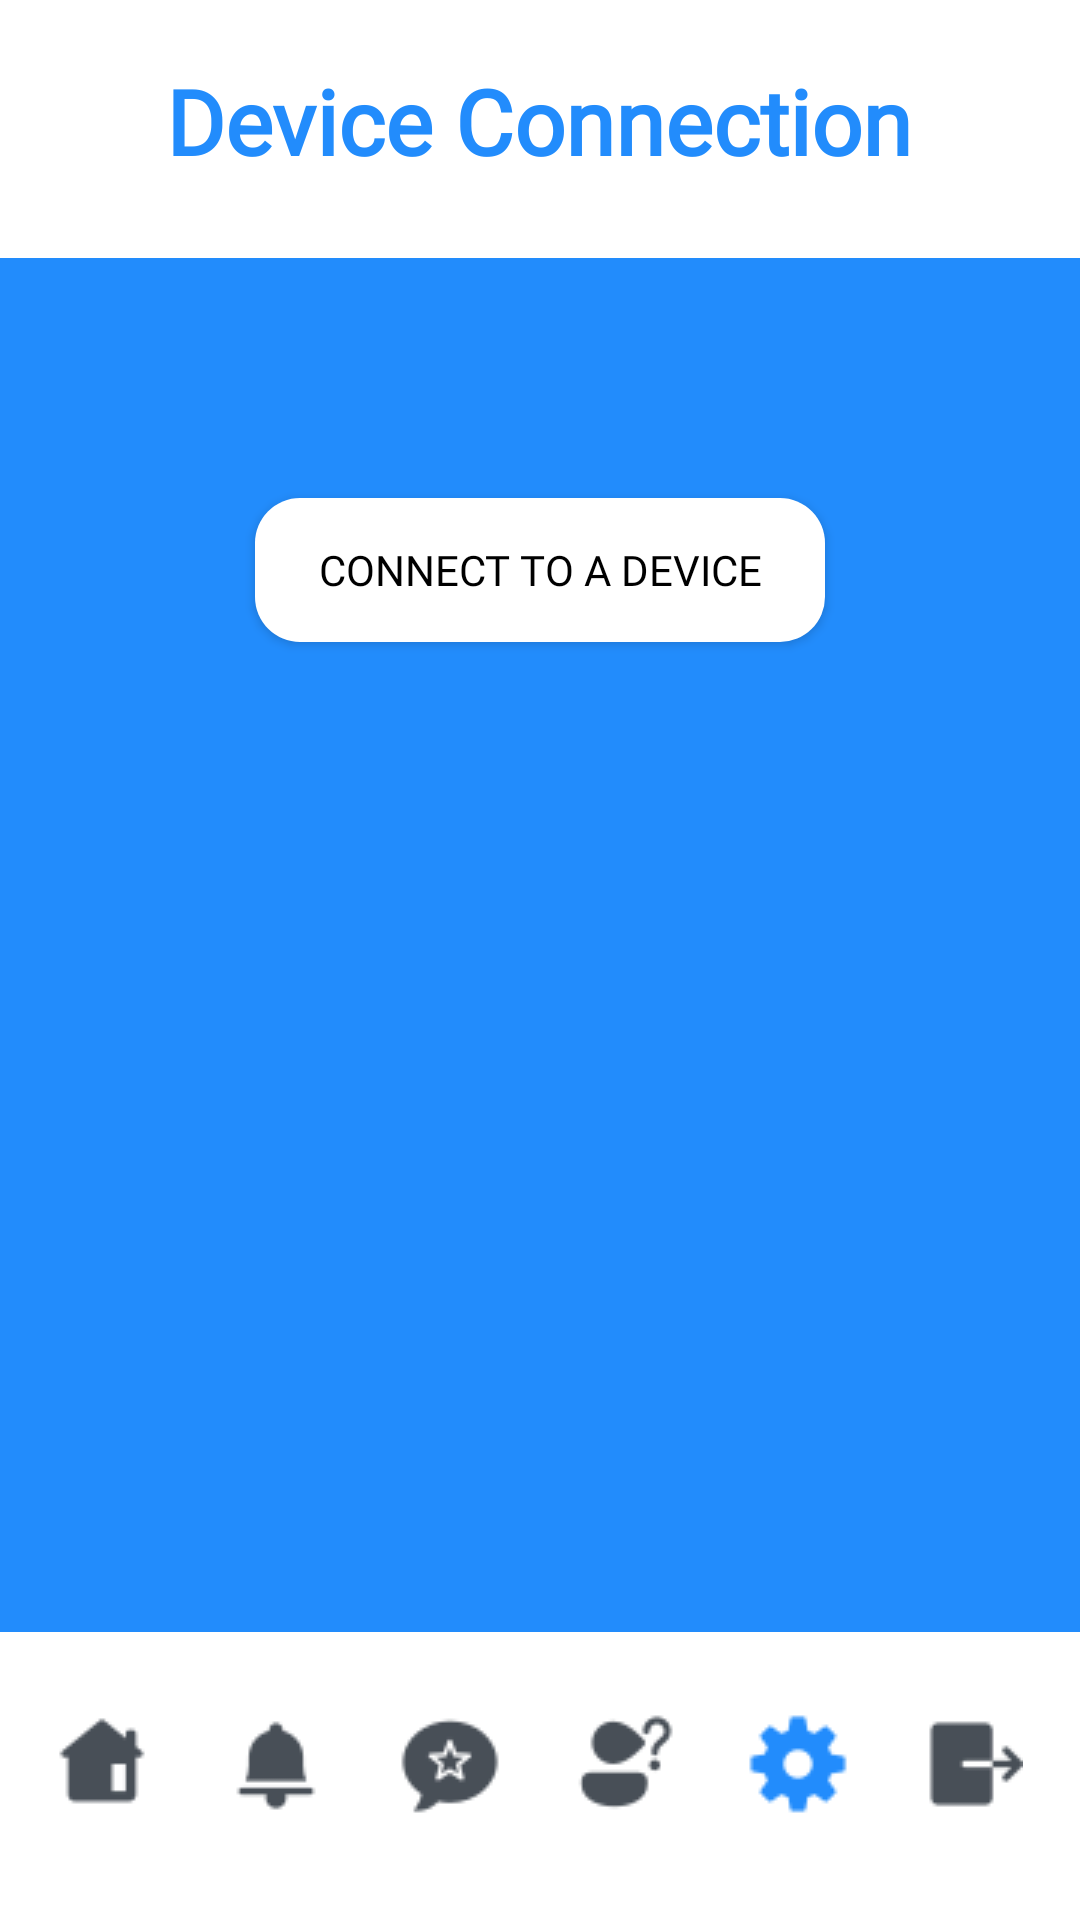

Where icons sit on this 1080x1920 app screen, as BBox(x1, y1, x2, y2):
doorbell: BBox(237, 1721, 315, 1810)
feedback: BBox(401, 1719, 499, 1813)
helpcenter: BBox(580, 1715, 673, 1808)
home: BBox(59, 1718, 145, 1804)
settingsblue: BBox(749, 1715, 847, 1813)
